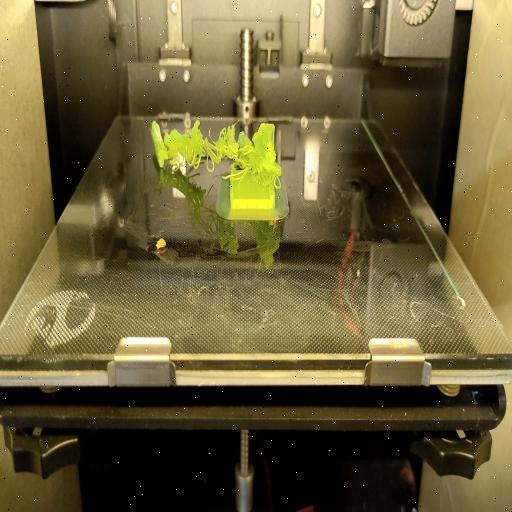spaghetti: (170, 115, 284, 177)
